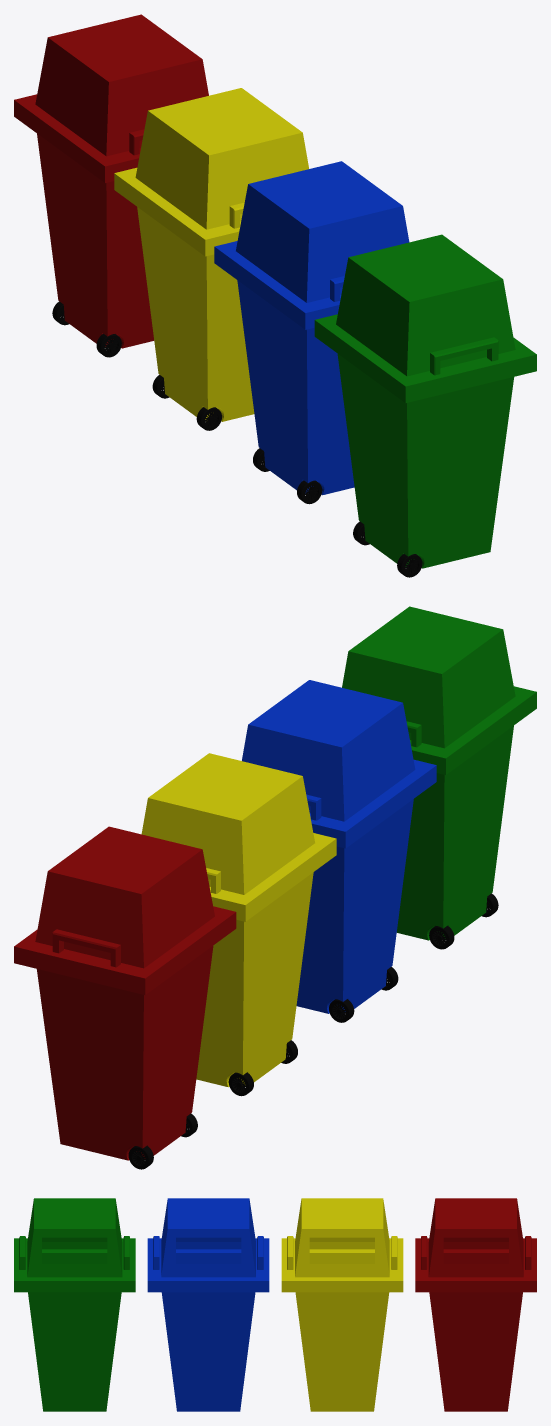
File: Bins.fbx
3 renders of one model, top to bottom at view 1: azimuth 30°, elevation 25°; view 2: azimuth 150°, elevation 25°; view 3: azimuth 270°, elevation 25°, orthographic. The views are drawn at different scales.
Parts seen in each view (by area): view 1: Cube.004, Cube.020, Cube.008, Cube.016, Cube.021, Cube.002, Cube.010, Cube.015, Cube.019; view 2: Cube.020, Cube.016, Cube.004, Cube.008, Cube.010, Cube.021, Cube.015, Cube.002, Cube.009; view 3: Cube.004, Cube.016, Cube.008, Cube.020, Cube.010, Cube.002, Cube.015, Cube.021.
Part boxes in pixels (<box>): Cube.004: <box>314,234,536,568</box>; Cube.020: <box>14,14,208,348</box>; Cube.008: <box>214,161,409,495</box>; Cube.016: <box>114,88,308,421</box>; Cube.021: <box>314,234,536,567</box>; Cube.002: <box>114,88,308,420</box>; Cube.010: <box>14,15,207,348</box>; Cube.015: <box>214,161,408,493</box>; Cube.019: <box>430,337,498,375</box>; Cube.020: <box>14,826,236,1160</box>; Cube.016: <box>141,753,336,1087</box>; Cube.004: <box>342,606,536,940</box>; Cube.008: <box>242,680,436,1013</box>; Cube.010: <box>14,827,236,1158</box>; Cube.021: <box>342,607,536,939</box>; Cube.015: <box>242,680,435,1009</box>; Cube.002: <box>142,753,336,1083</box>; Cube.009: <box>52,929,120,967</box>; Cube.004: <box>14,1198,135,1411</box>; Cube.016: <box>281,1198,403,1411</box>; Cube.008: <box>147,1198,269,1411</box>; Cube.020: <box>415,1198,536,1411</box>; Cube.010: <box>415,1198,536,1411</box>; Cube.002: <box>281,1198,403,1411</box>; Cube.015: <box>147,1198,269,1411</box>; Cube.021: <box>14,1198,135,1411</box>.
Size of the model in its own units: 242 by 496 by 1248.
